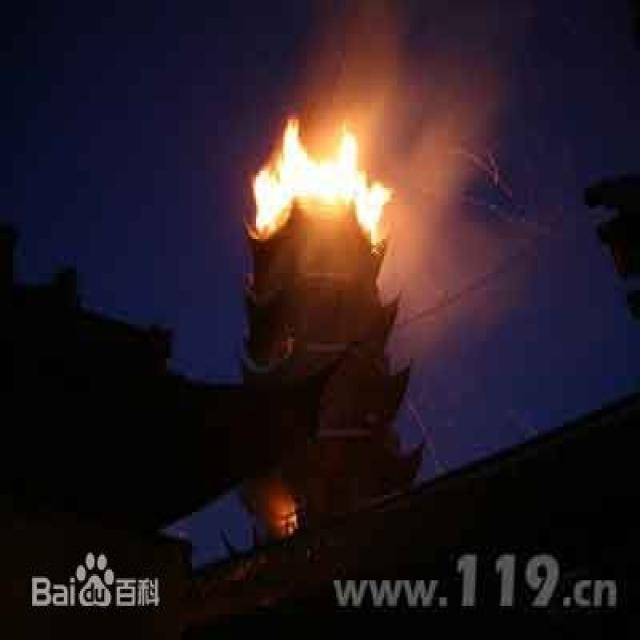fire: (244, 92, 421, 290)
